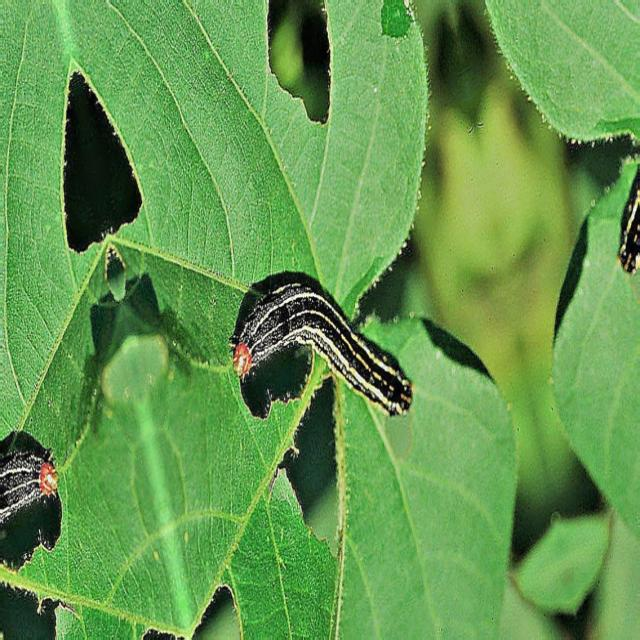Armyworm: (205, 254, 413, 448), (1, 436, 86, 558)
Armyworm_damage: (53, 31, 162, 279), (252, 1, 356, 141), (289, 392, 357, 568)
